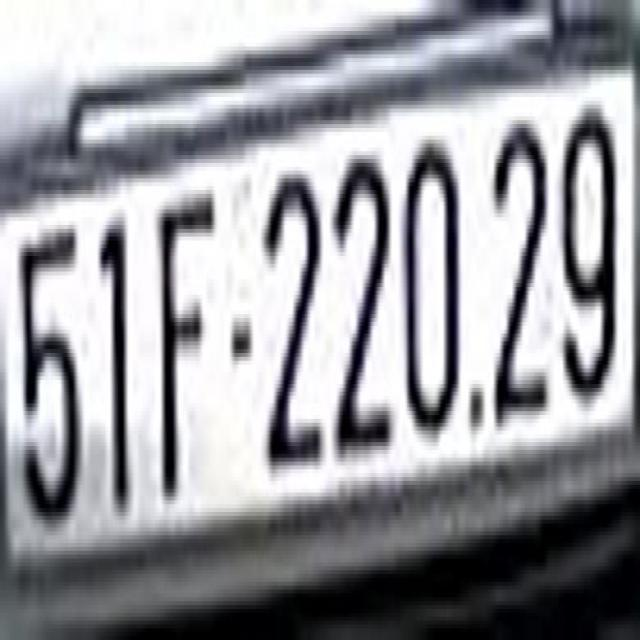0: (402, 144, 460, 442)
1: (103, 232, 142, 520)
2: (336, 155, 394, 458), (266, 170, 324, 466), (494, 112, 549, 419)
5: (20, 217, 89, 535)
9: (560, 90, 619, 403)
F: (158, 174, 214, 524)
